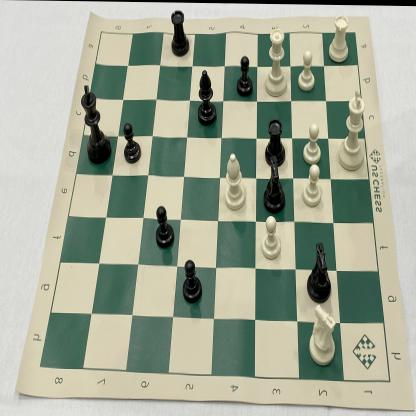black-bishop: (194, 65, 220, 132)
black-king: (78, 77, 116, 168)
black-knight: (260, 152, 290, 216), (304, 237, 332, 305)
black-pawn: (152, 200, 176, 252), (179, 256, 203, 306), (235, 52, 257, 98), (120, 120, 142, 164)
black-rook: (260, 115, 286, 173), (168, 8, 191, 62)
white-bishop: (222, 147, 250, 214)
white-king: (336, 80, 370, 175)
white-knight: (302, 300, 340, 368)
white-pawn: (258, 209, 286, 261), (300, 160, 326, 208), (302, 120, 326, 166), (295, 49, 317, 95)
white-queen: (262, 23, 288, 101)
white-rook: (327, 9, 353, 66)
